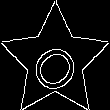O_NE: (23, 28, 87, 93)
